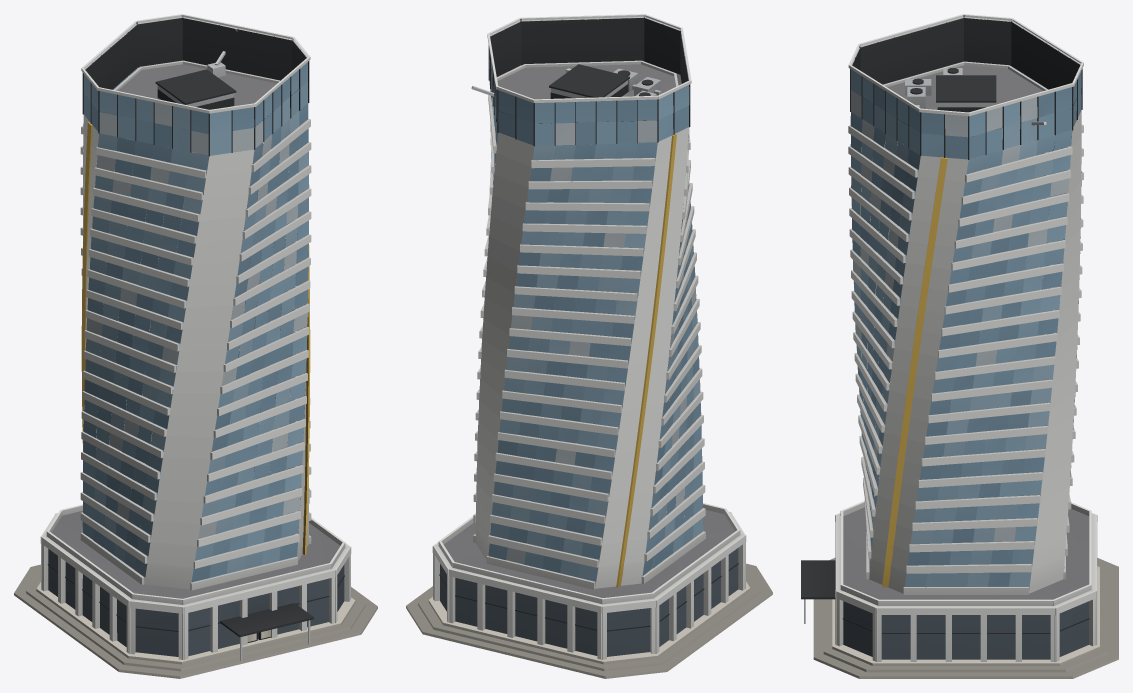
3 views of the same model, side by side, from view 1: azimuth 30°, elevation 25°; view 2: azimuth 150°, elevation 25°; view 3: azimuth 270°, elevation 25° (orthographic). The views are drawn at different scales.
Parts seen in each view (by area): view 1: t7; view 2: t7; view 3: t7.
Boxes of the visible parts, left/top/right/bottom form: t7: left=14, top=14, right=377, bottom=678; t7: left=406, top=14, right=772, bottom=678; t7: left=801, top=14, right=1118, bottom=678.
Size of the model in its own units: 48.8 by 97.15 by 50.8.
